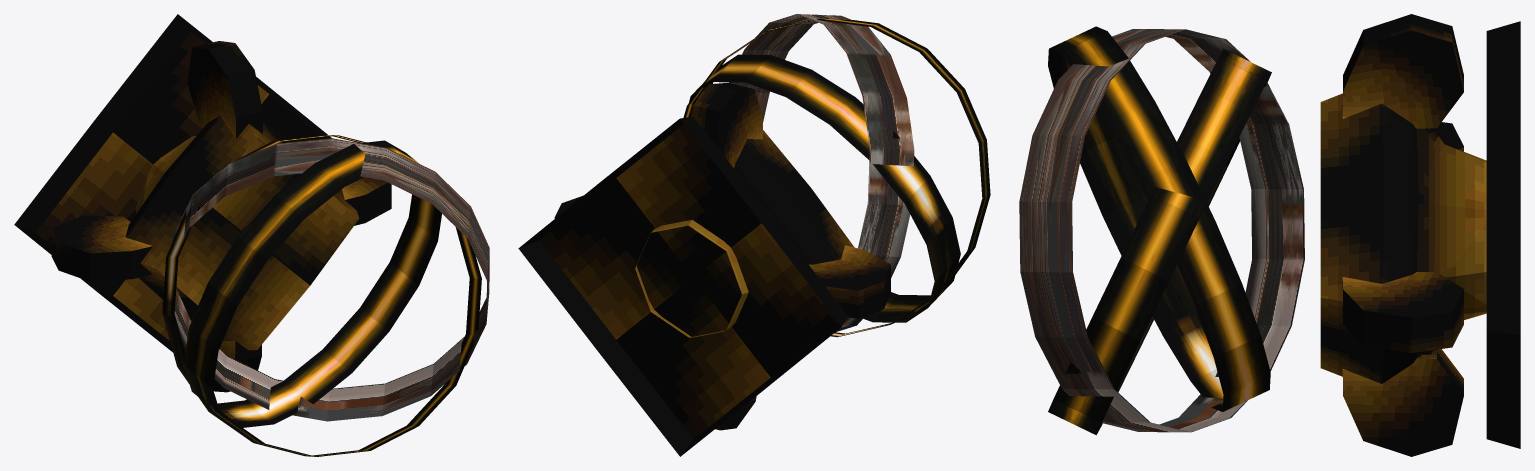
Rendered from yingxiongtai_teshutaizuo_2c.obj.
3 renders of one model, left to right at view 1: azimuth 30°, elevation 25°; view 2: azimuth 150°, elevation 25°; view 3: azimuth 270°, elevation 25°, orthographic. The views are drawn at different scales.
Visible parts, largest first — view 1: yingxiongtai_teshutaizuo_2c, Cylinder02, Cylinder04, Cylinder03; view 2: yingxiongtai_teshutaizuo_2c, Cylinder04, Cylinder03, Cylinder02; view 3: yingxiongtai_teshutaizuo_2c, Cylinder04, Cylinder02, Cylinder03.
Part boxes in pixels (x1,y1,x2,y2): yingxiongtai_teshutaizuo_2c: (14, 14, 391, 392); Cylinder02: (183, 140, 441, 427); Cylinder04: (172, 138, 489, 421); Cylinder03: (162, 134, 481, 456); yingxiongtai_teshutaizuo_2c: (518, 83, 890, 456); Cylinder04: (729, 14, 914, 332); Cylinder03: (689, 54, 960, 322); Cylinder02: (683, 18, 990, 337); yingxiongtai_teshutaizuo_2c: (1320, 14, 1520, 456); Cylinder04: (1019, 29, 1304, 432); Cylinder02: (1048, 26, 1270, 411); Cylinder03: (1048, 49, 1271, 435).
Bounding box in the file's own units: 88.66 × 88.66 × 94.1.
3 materials, 3 textured.
